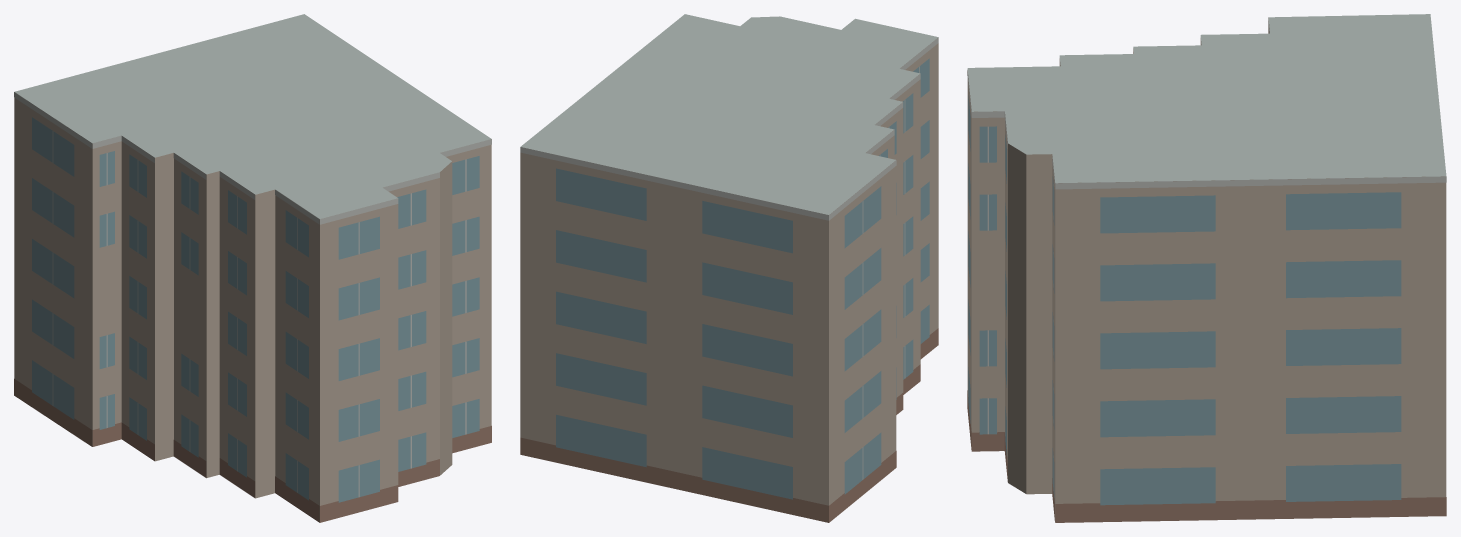
File: survey-upis-32738509.glb
3 renders of one model, left to right at view 1: azimuth 30°, elevation 25°; view 2: azimuth 150°, elevation 25°; view 3: azimuth 270°, elevation 25°, orthographic. The views are drawn at different scales.
Visible parts, largest first — view 1: survey-upis-32738509.tmp; view 2: survey-upis-32738509.tmp; view 3: survey-upis-32738509.tmp.
Part boxes in pixels (x1,y1,x2,y2): survey-upis-32738509.tmp: [14, 14, 491, 522]; survey-upis-32738509.tmp: [520, 14, 938, 522]; survey-upis-32738509.tmp: [967, 14, 1446, 522].
Size of the model in its own units: 14.11 by 13.2 by 16.88.
